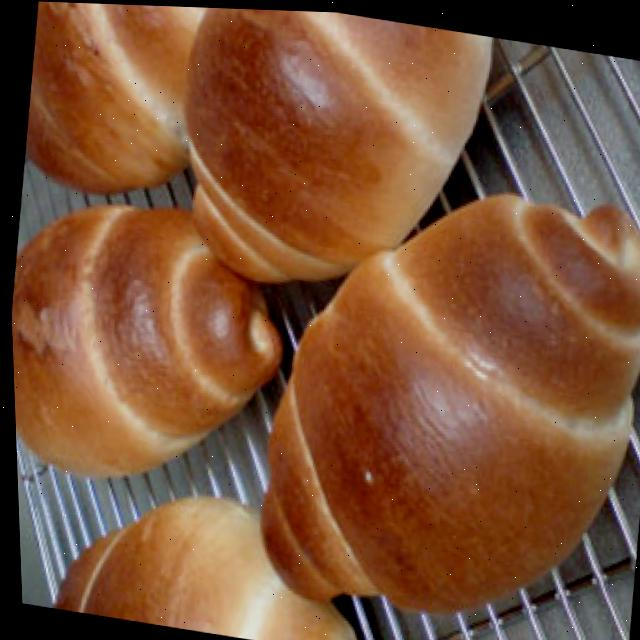面包点心: (213, 139, 640, 640)
